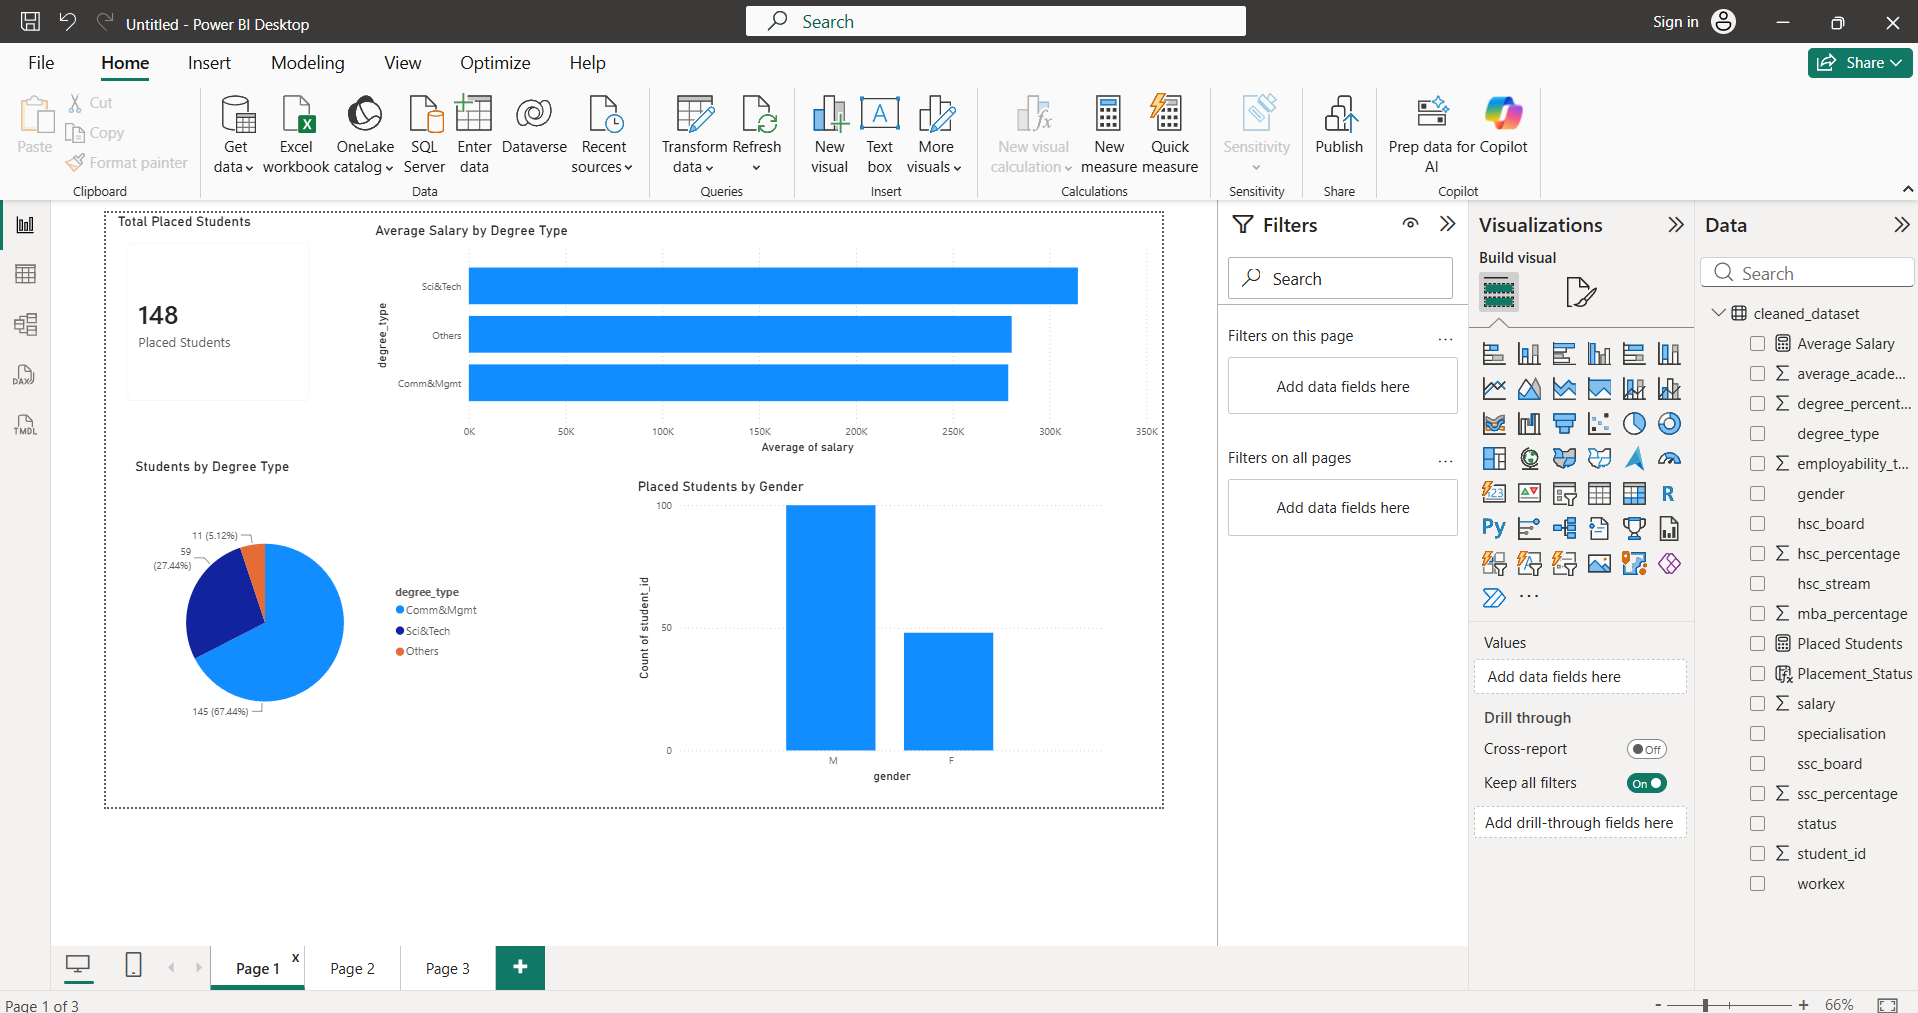

What the dashboard file says about the page in this screenshot:
{"tool":"powerbi","page":{"name":"Page 1","canvas":[1280,720],"ordinal":0},"visuals":[{"type":"cardVisual","title":"Total Students Placed","fields":{"Data":["cleaned_dataset.Placed Students"]},"box":[9.1,0,254.5,245.5],"z":0},{"type":"clusteredColumnChart","title":"Placed Students by Gender","fields":{"Category":["cleaned_dataset.gender"],"Y":["CountNonNull(cleaned_dataset.student_id)"]},"box":[639.4,321.2,575.8,374.2],"z":1},{"type":"pieChart","title":"Distribution of Students by Degree Type","fields":{"Y":["CountNonNull(cleaned_dataset.student_id)"],"Category":["cleaned_dataset.degree_type"]},"box":[30.3,297,433.3,380.3],"z":2},{"type":"clusteredBarChart","title":"Average Salary by Degree Type","fields":{"Category":["cleaned_dataset.degree_type"],"Y":["Avg(cleaned_dataset.salary)"]},"box":[321.2,10.6,959.1,286.4],"z":3}]}

Visuals, with their boxes on the page's 1280x720 design canvas (x1, y1, x2, y2). These are canvas units, not pixel positions in the 1918x1013 screenshot, which may show the page scaled, cropped or inside an application window:
"Total Students Placed" cardVisual: bbox=[9, 0, 264, 246]
"Placed Students by Gender" clusteredColumnChart: bbox=[639, 321, 1215, 695]
"Distribution of Students by Degree Type" pieChart: bbox=[30, 297, 464, 677]
"Average Salary by Degree Type" clusteredBarChart: bbox=[321, 11, 1280, 297]
